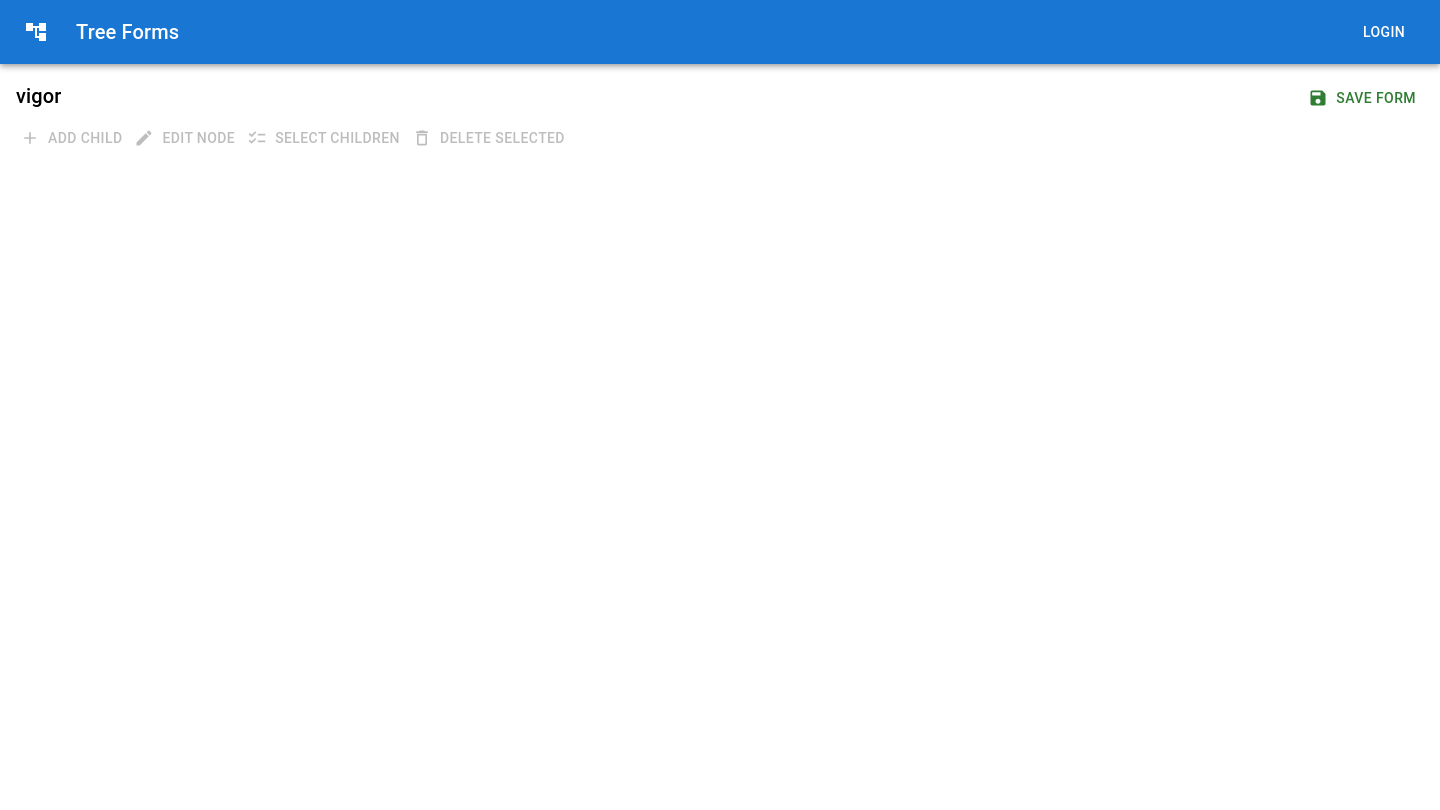
update tree form › should display snackbar when the endpoint /form/:id/form-tree returns an error
The image size is (1440, 810).
Click the button with test id "save-form-button" at (1364, 98), box [1304,80,1424,116]
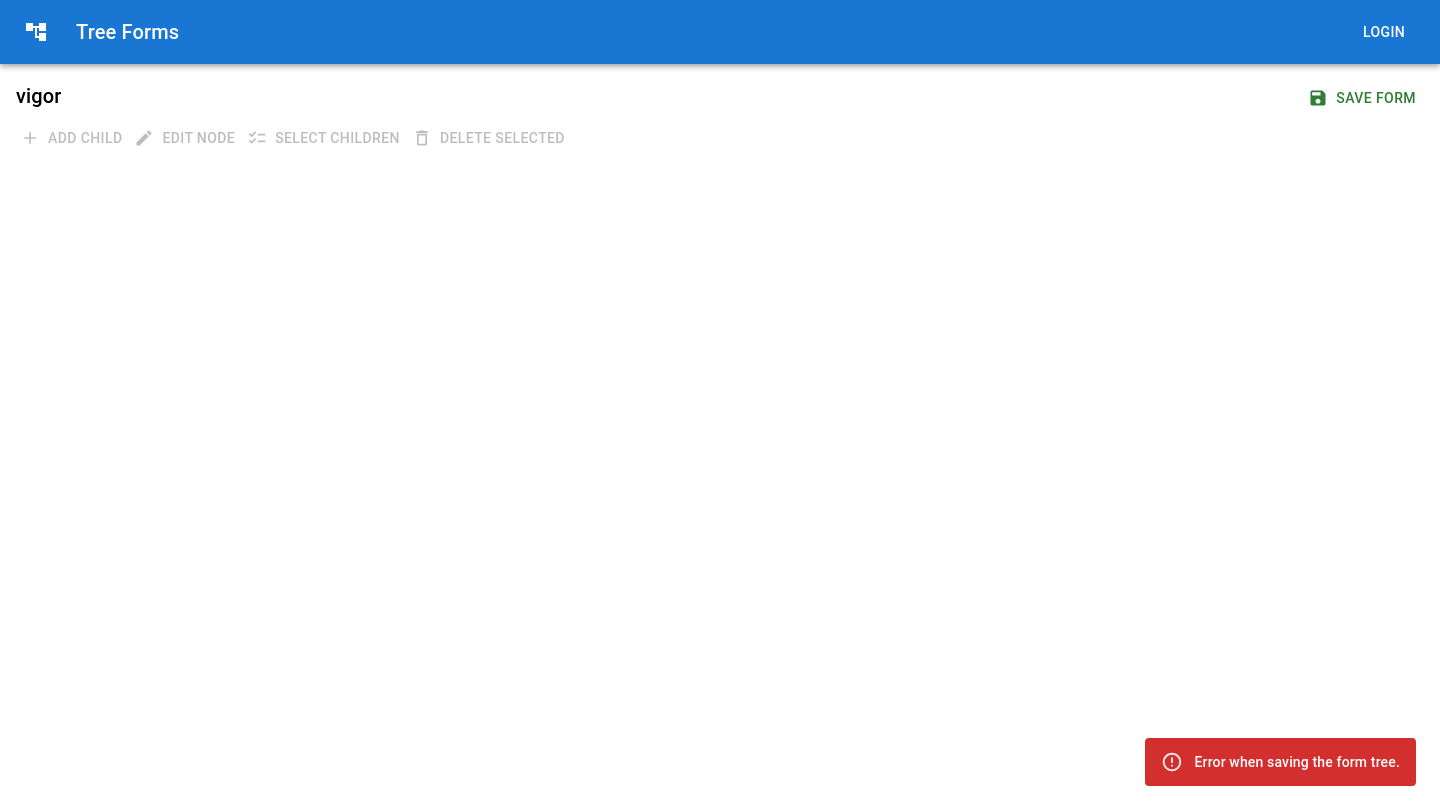
Now the element with test id "snackbar" is shown, box [1144,738,1416,786]
Now the element with test id "snackbar" reads "Error when saving the form tree.", box [1194,754,1400,770]
